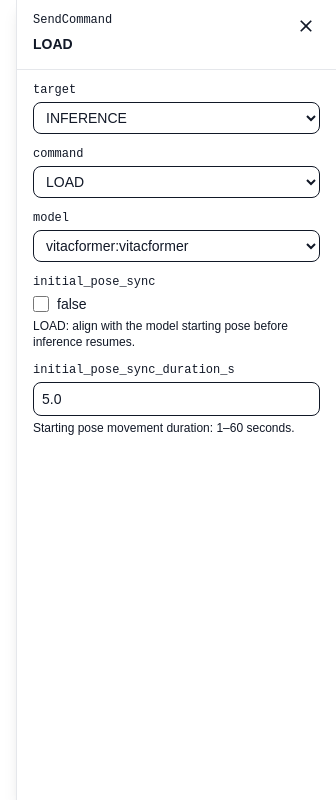
LOAD edits first pose sync and duration while RESUME disables the retained settings
Expected: the number field holds "5", [33,382,320,416]
Click the checkbox labelled "false".
click(41, 304)  # box [33,296,49,312]
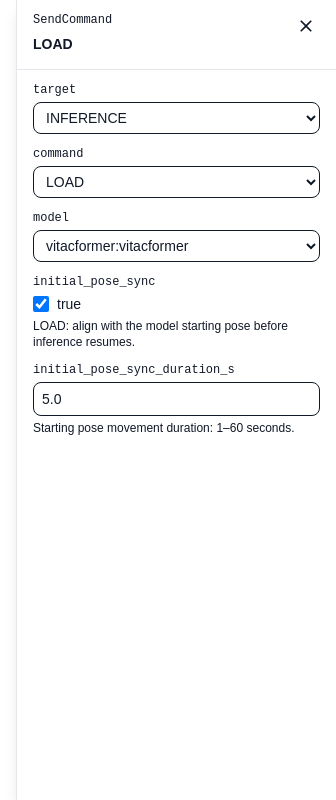
Replace the text in the number field with "6.5" at (176, 399), box [33,382,320,416]
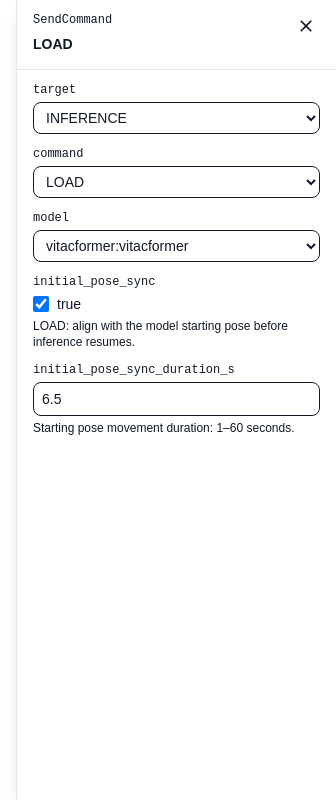
Select "RESUME" in the 2nd dropdown at (176, 182), box [33,166,320,198]
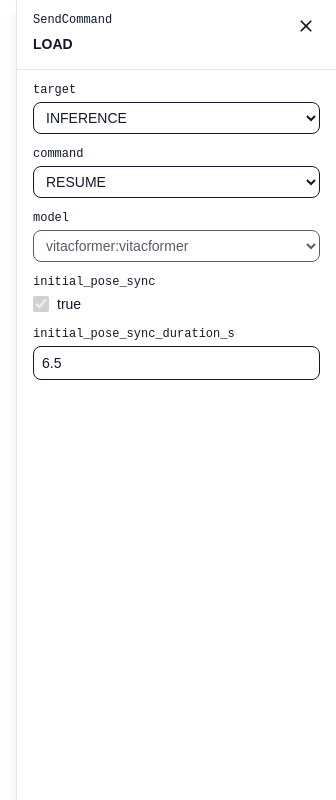
Expected: the checkbox labelled "true" is checked, [33,296,49,312]
Expected: the number field is disabled, [33,346,320,380]
Select "LOAD" in the 2nd dropdown at (176, 182), box [33,166,320,198]
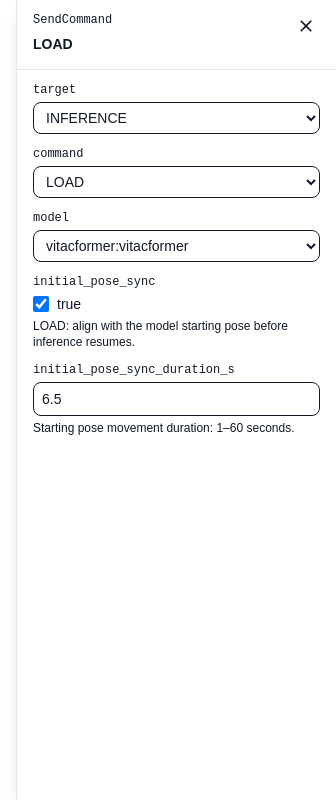
Expected: the number field is enabled, [33,382,320,416]
